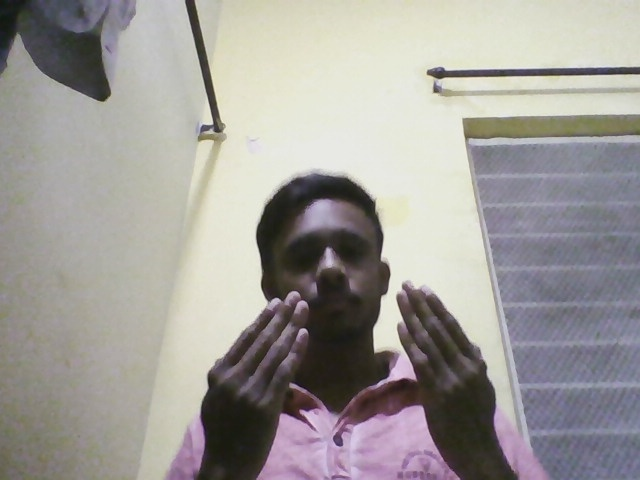thankyou: (197, 291, 531, 475)
